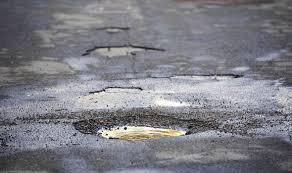pothole: (65, 106, 229, 163), (75, 41, 174, 65), (86, 76, 152, 102), (159, 70, 250, 84)
